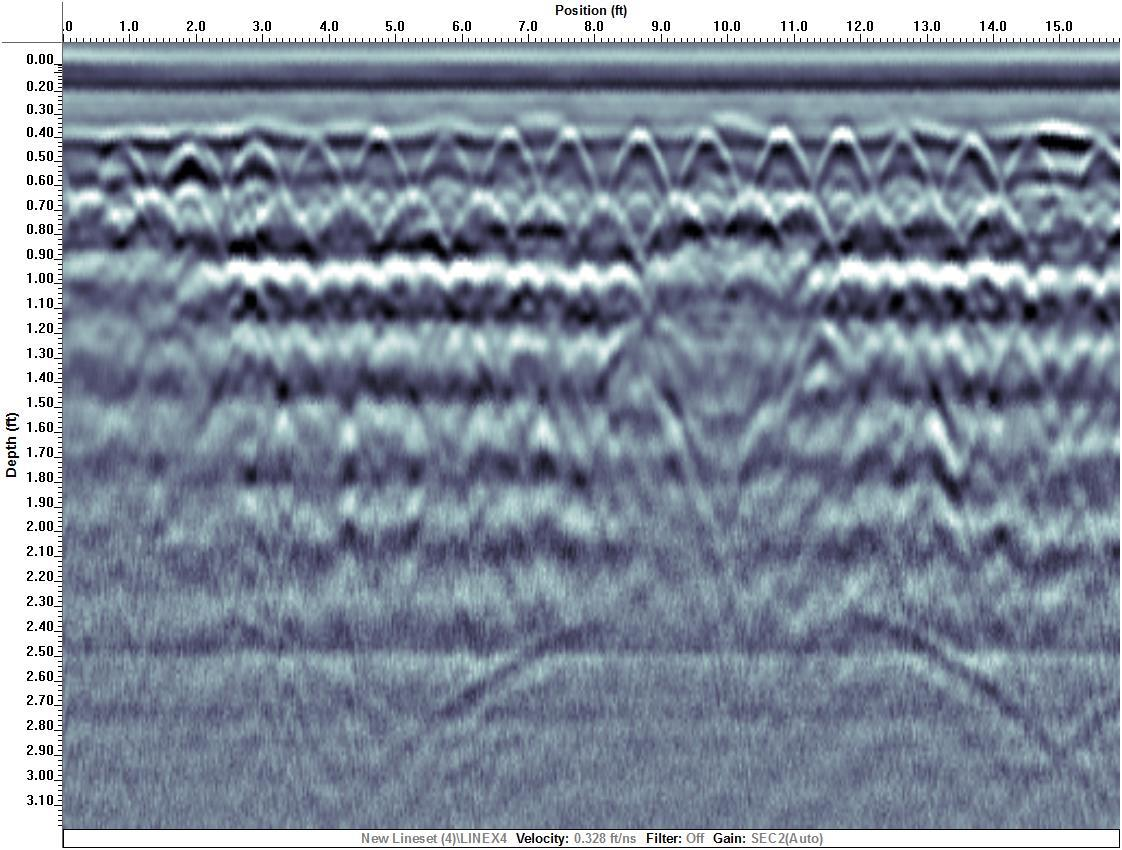hyperbola: (334, 120, 425, 209), (665, 118, 740, 214), (801, 116, 881, 206), (738, 116, 815, 208), (535, 114, 604, 208), (935, 121, 1005, 213)
